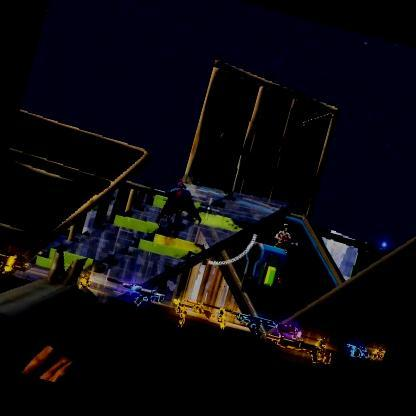person: (160, 176, 197, 238), (266, 220, 298, 280)
